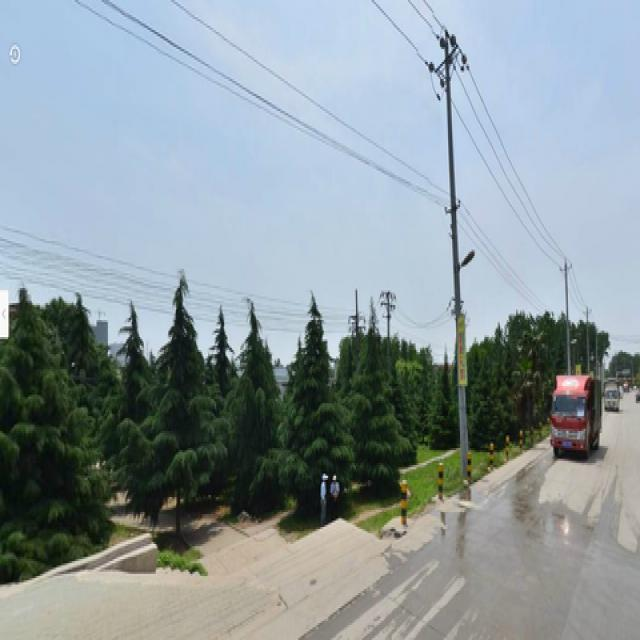cedr: (141, 273, 219, 533), (275, 284, 340, 516)
